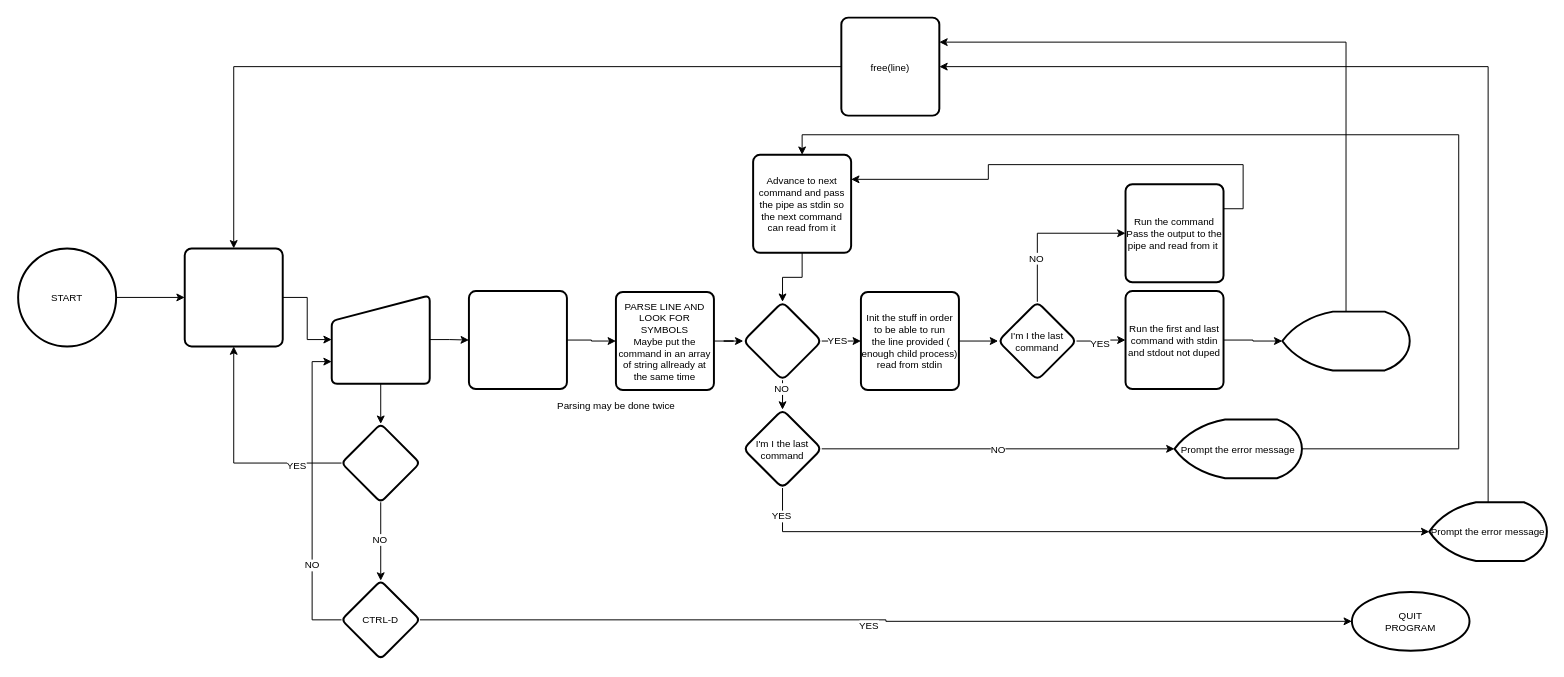
The diagram is 1564 pixels wide and 677 high, and some of its shapes have lost their labels. Here are the shapes that lost their labels. From the top down, the centre of each, then its label:
the point at 233,297: READLINE Gives the prompt and look for a newline
the point at 380,339: user input The user inputs its command or ctrl-c; ctrl-d
the point at 517,340: Add line to history
the point at 782,340: Is the first command valid
the point at 1345,340: Prompt the output of the commands
the point at 380,462: CTRL-C
